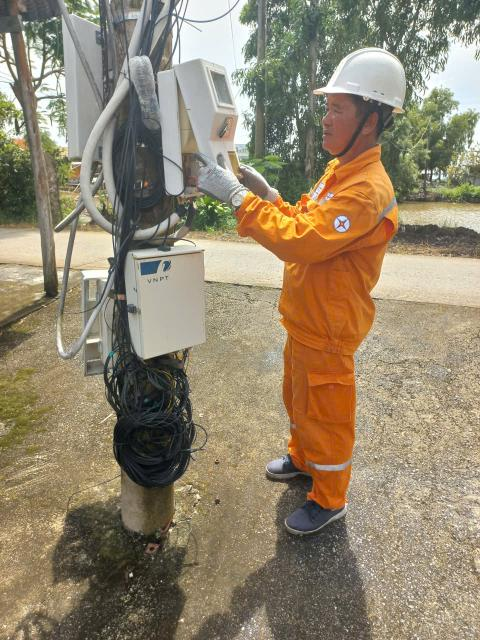gloves: (192, 141, 255, 217), (229, 154, 285, 209)
helmet: (311, 26, 443, 119)
shoes: (272, 479, 362, 542), (254, 442, 326, 488)
